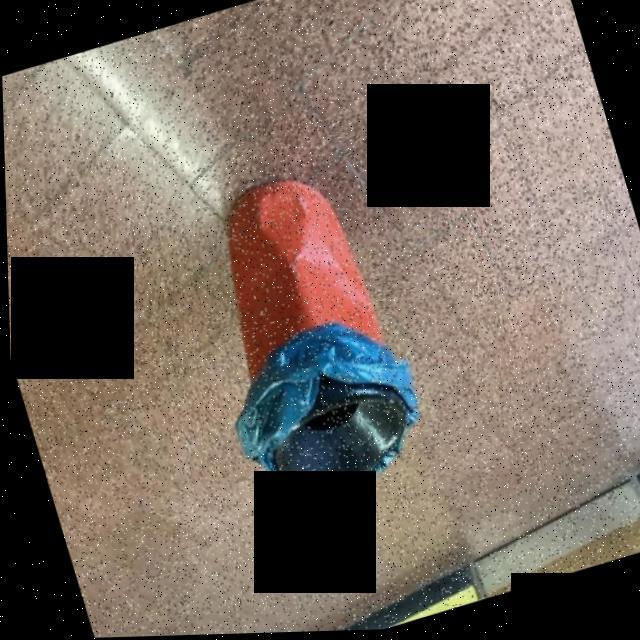bin: (115, 100, 484, 568)
